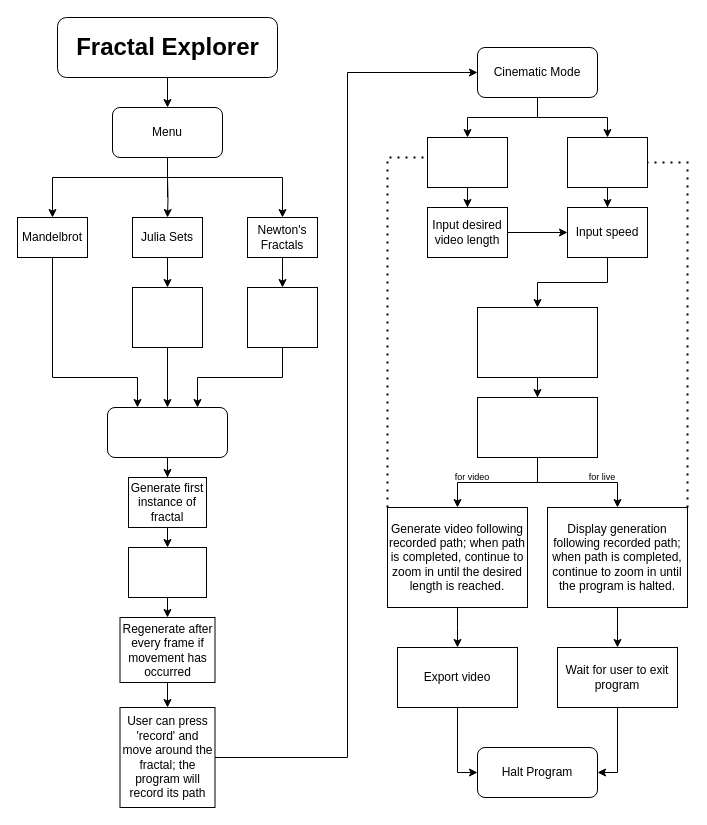
Some shapes in this 707 by 825 pixel diagram are drawn without their labels. Each missing label, with the centre of its shape:
Create video: pixel 467 162
Explore Mode: pixel 167 432
Fractal iterated to high levels of precision in parallel: pixel 537 427
Input 'c' parameter: pixel 167 317
Input polynomial: pixel 282 317
Program calls external Compute Shader program, loads recorded path: pixel 537 342
User can zoom/move about fractal: pixel 167 572
Watch live: pixel 607 162
